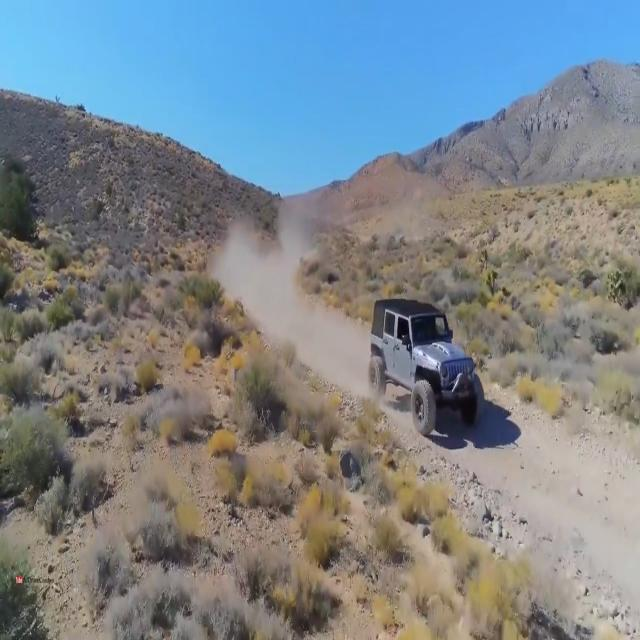Vehicle: (362, 292, 484, 437)
